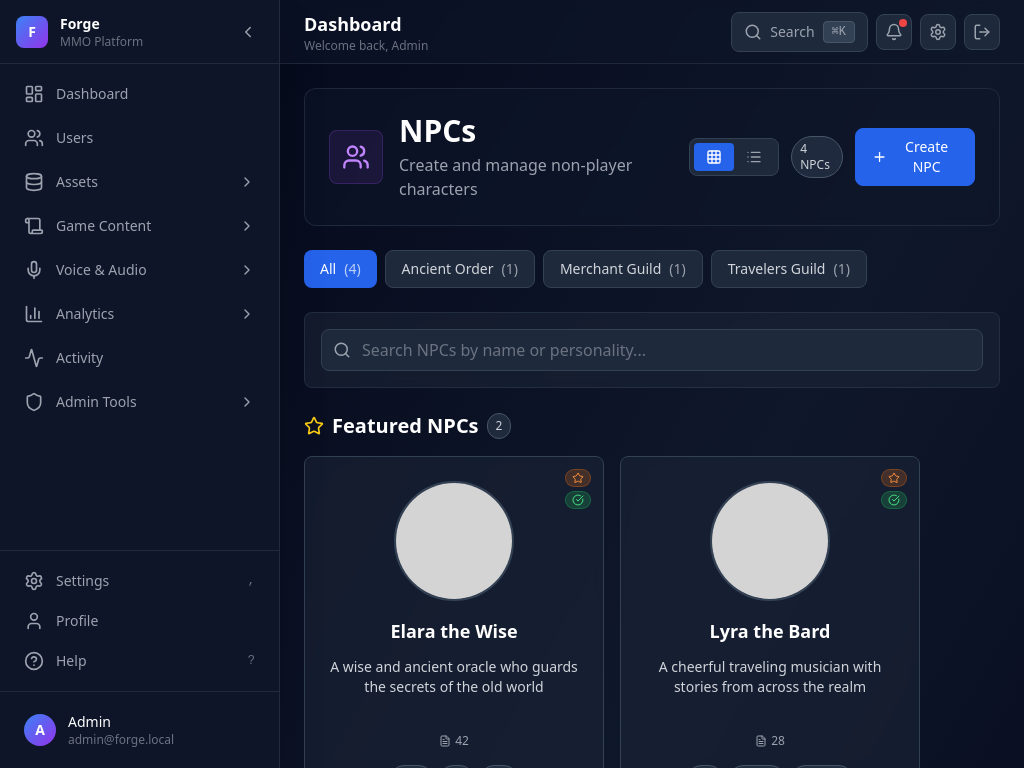
NPCsPage - Integration Tests › AI NPC Generation › expands AI generation prompt when Generate button clicked
Expected: the heading "Elara the Wise" is shown, [390, 619, 518, 643]
Click the button "Create NPC": click(915, 157) [855, 128, 975, 186]
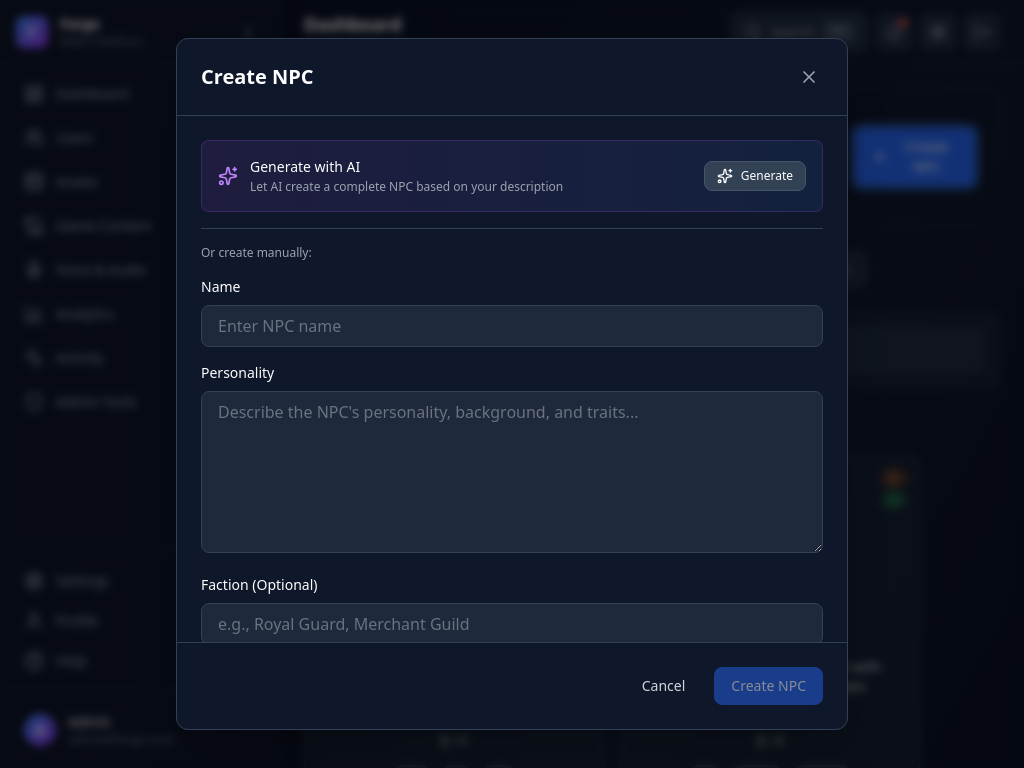
Click the button "Generate": click(755, 176) [704, 161, 806, 191]
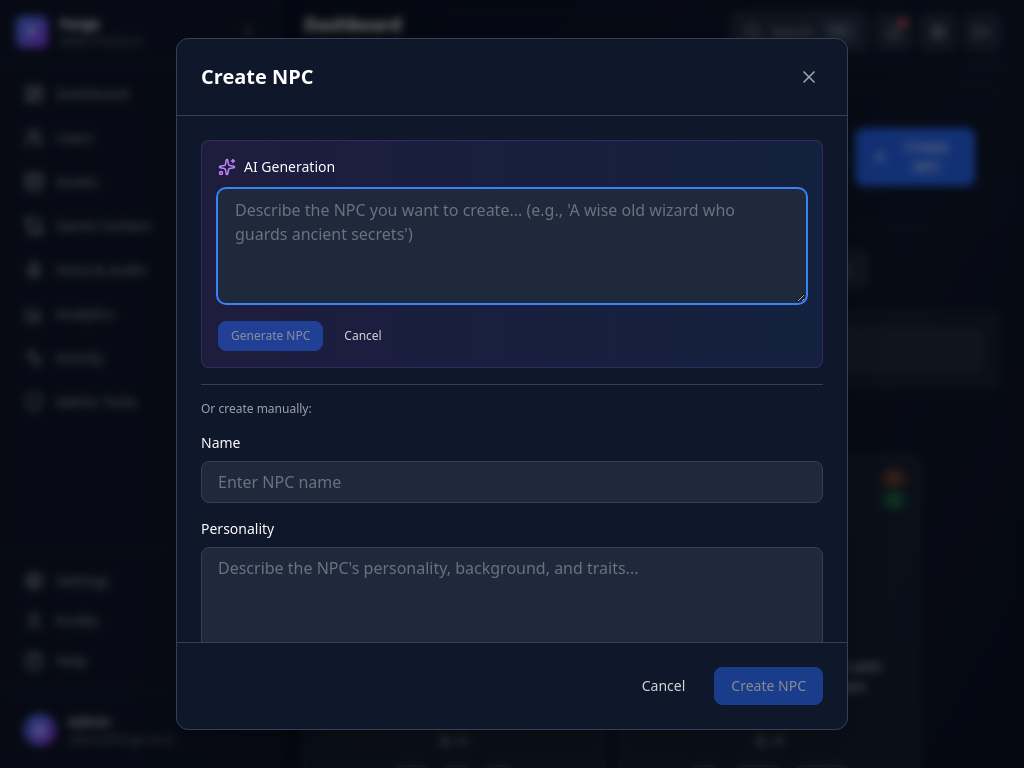
Now the heading "AI Generation" is shown, box [244, 157, 335, 177]
Now the text box with placeholder "Describe the NPC you want to create" is shown, box [218, 189, 806, 303]
